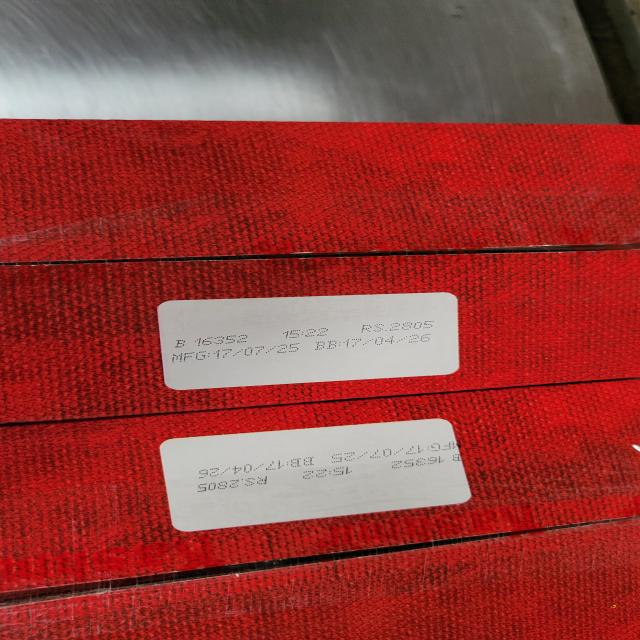BB: (197, 453, 321, 483), (313, 330, 434, 351)
Batch: (379, 449, 472, 474), (171, 332, 251, 350)
MFG: (326, 433, 468, 468), (167, 340, 307, 368)
RS: (192, 473, 280, 498), (358, 323, 441, 333)
TimeStamp: (299, 464, 363, 485), (280, 328, 334, 339)
